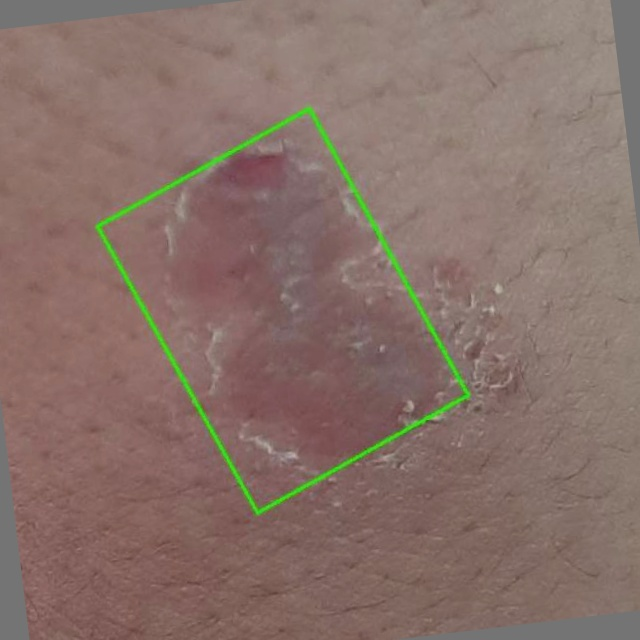Tinea Corporis: (97, 109, 467, 512)
